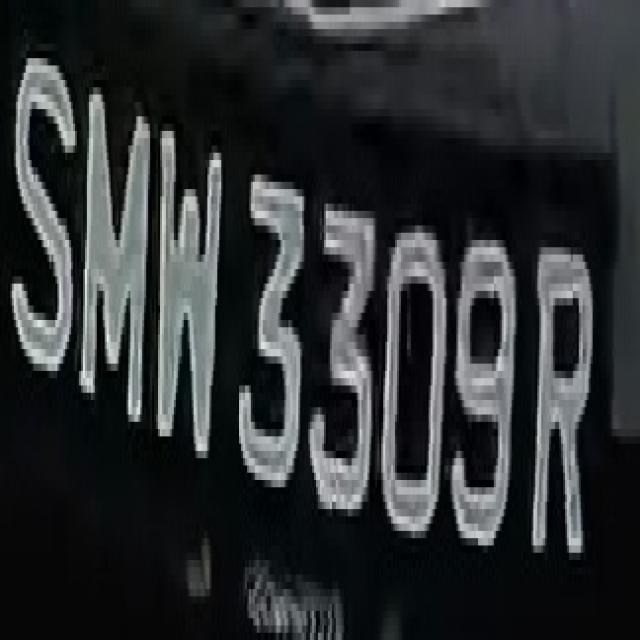0: (382, 211, 446, 574)
3: (308, 160, 379, 538), (239, 124, 304, 509)
9: (447, 204, 518, 560)
M: (77, 58, 150, 429)
R: (530, 196, 596, 582)
S: (8, 22, 75, 385)
W: (154, 94, 225, 466)
